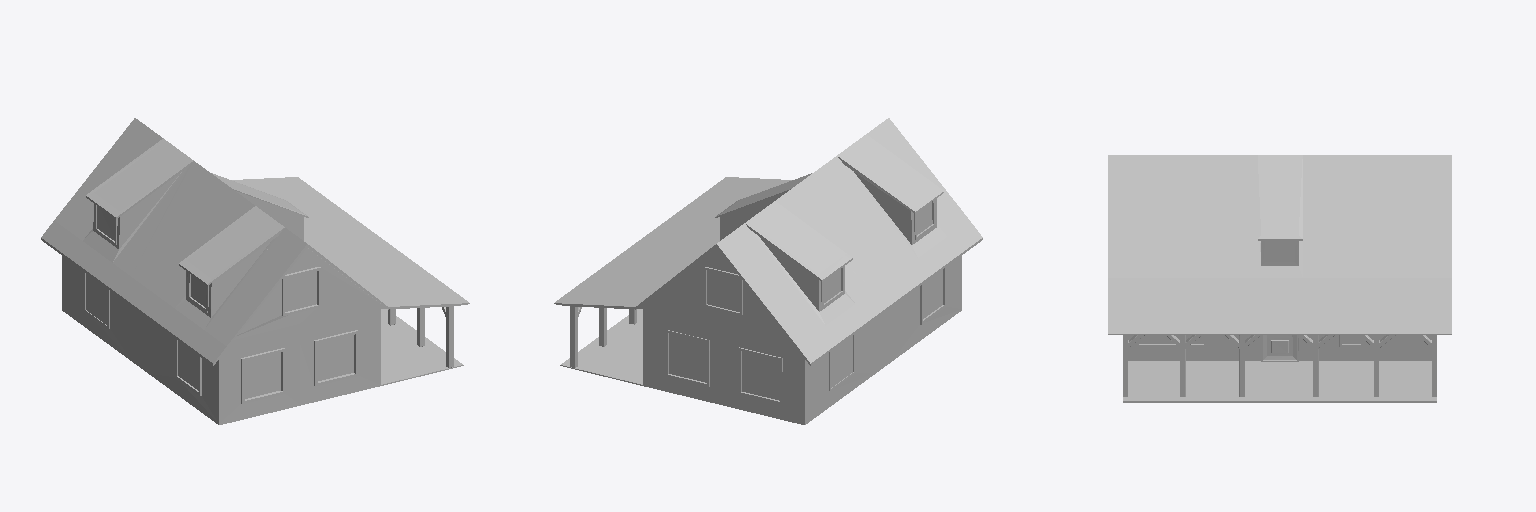
Rendered from myhouse.obj.
3 renders of one model, left to right at view 1: azimuth 30°, elevation 25°; view 2: azimuth 150°, elevation 25°; view 3: azimuth 270°, elevation 25°, orthographic.
Visible parts, largest first — view 1: myHouse; view 2: myHouse; view 3: myHouse.
Part boxes in pixels (left/top/right/bottom): myHouse: left=41, top=118, right=469, bottom=424; myHouse: left=554, top=118, right=982, bottom=424; myHouse: left=1108, top=155, right=1451, bottom=402.
Bounding box in the file's own units: 33.83 × 21.03 × 39.22.